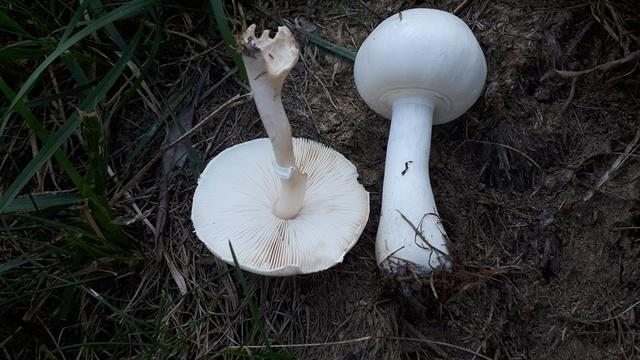Non-edible Mushroom: (181, 12, 375, 271), (352, 7, 488, 280)
